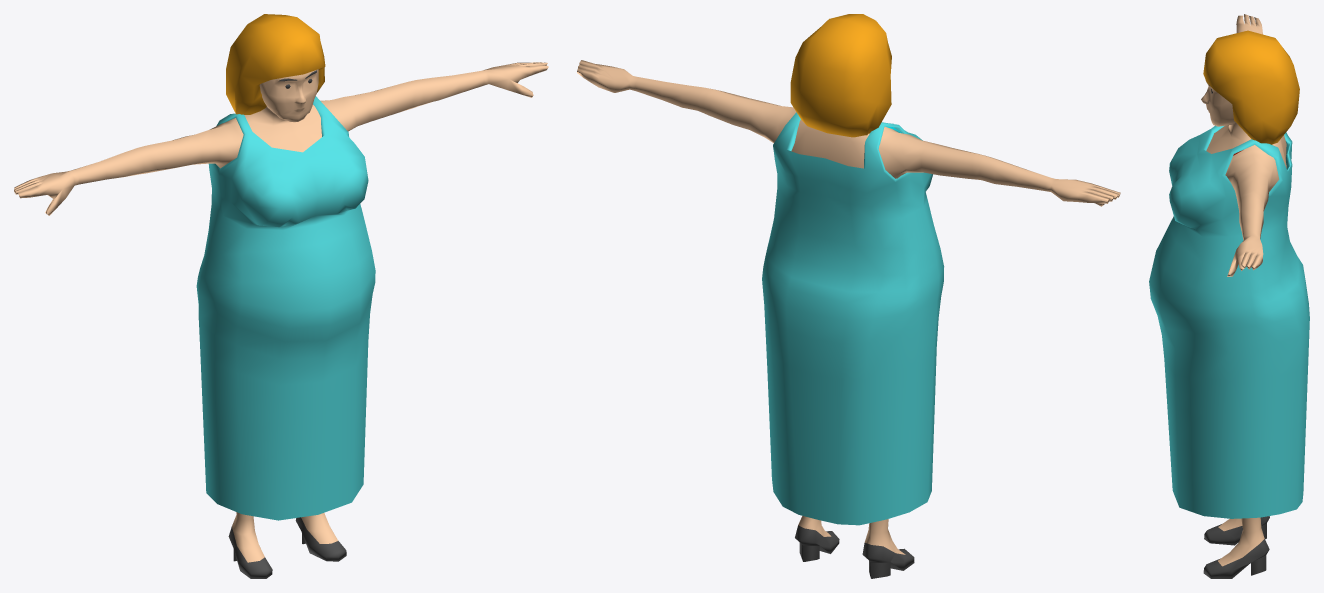
File: fat_woman1.fbx
3 renders of one model, left to right at view 1: azimuth 30°, elevation 25°; view 2: azimuth 150°, elevation 25°; view 3: azimuth 270°, elevation 25°, orthographic. The views are drawn at different scales.
Parts seen in each view (by area): view 1: fat_woman1:dress, fat_woman1:body; view 2: fat_woman1:dress, fat_woman1:body; view 3: fat_woman1:dress, fat_woman1:body.
Boxes of the visible parts, bbox=[...] form: fat_woman1:dress: bbox=[196, 96, 375, 520]; fat_woman1:body: bbox=[14, 14, 548, 578]; fat_woman1:dress: bbox=[762, 112, 944, 525]; fat_woman1:body: bbox=[577, 14, 1120, 578]; fat_woman1:dress: bbox=[1149, 125, 1309, 518]; fat_woman1:body: bbox=[1201, 14, 1299, 578].
Bounding box in the file's own units: 184 × 178 × 49.81.
